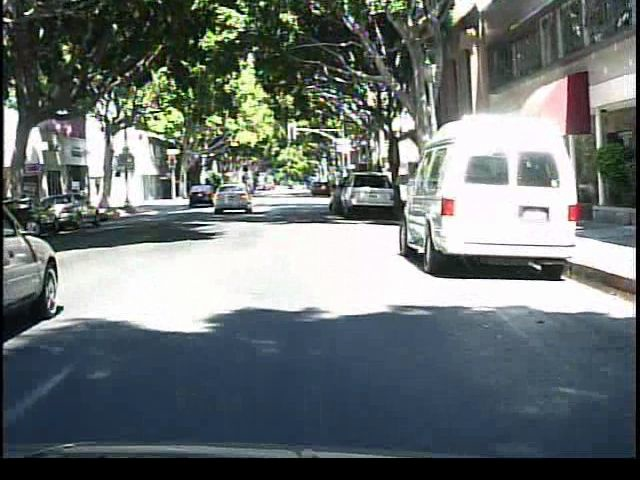person: (227, 171, 249, 205)
